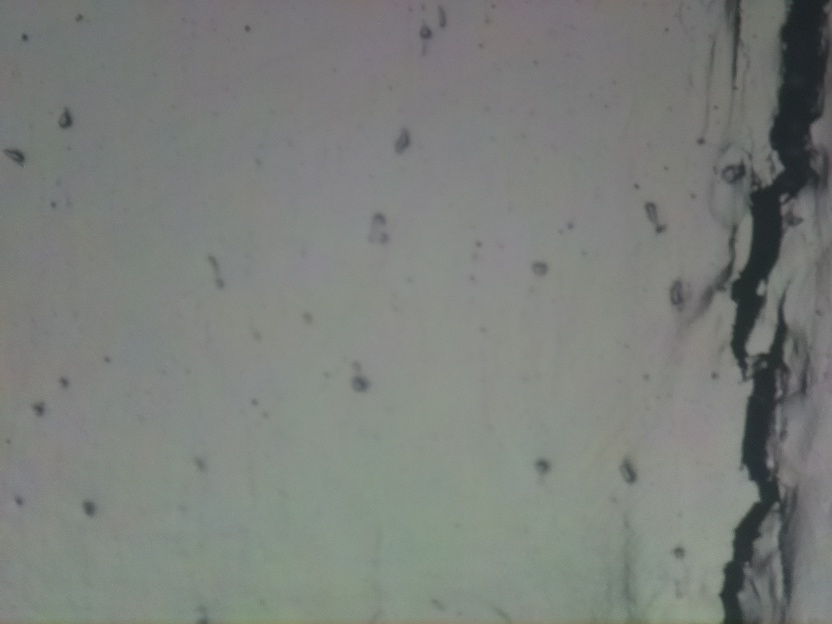crack: (719, 0, 832, 623)
